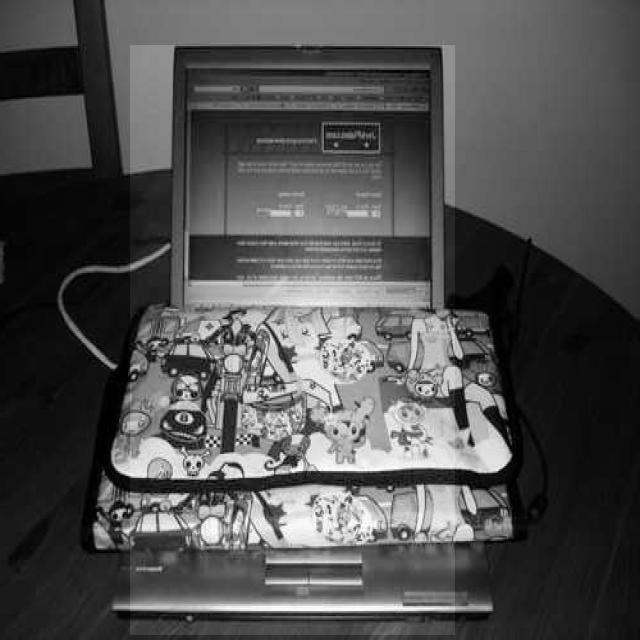-keyboard-: (130, 45, 455, 635)
